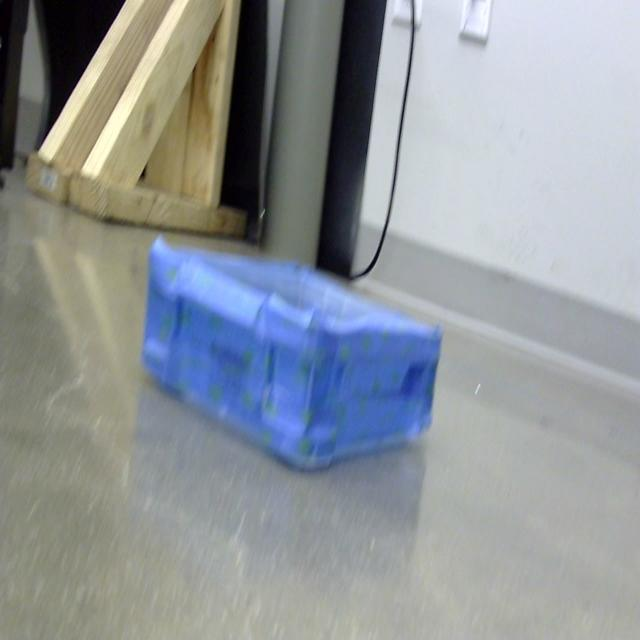bucket: (140, 239, 442, 475)
